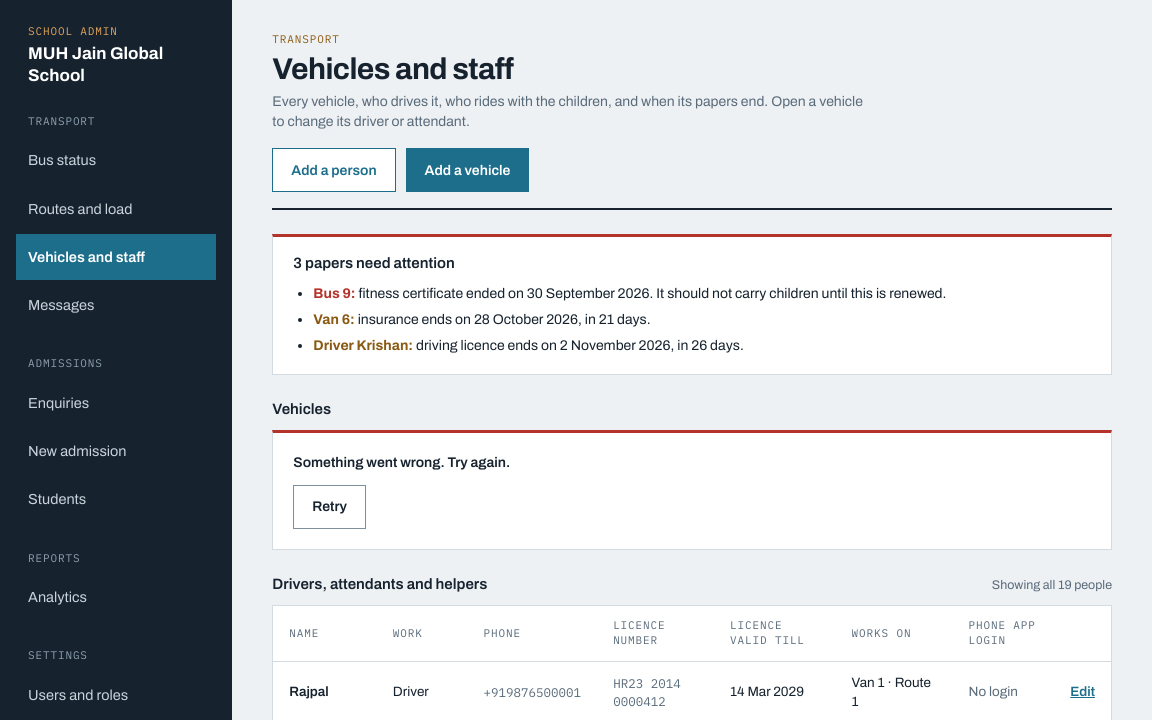
Vehicles and staff page › shows an error with Retry, then the data
Click the button "Retry": [330, 507] box left=293, top=485, right=366, bottom=529
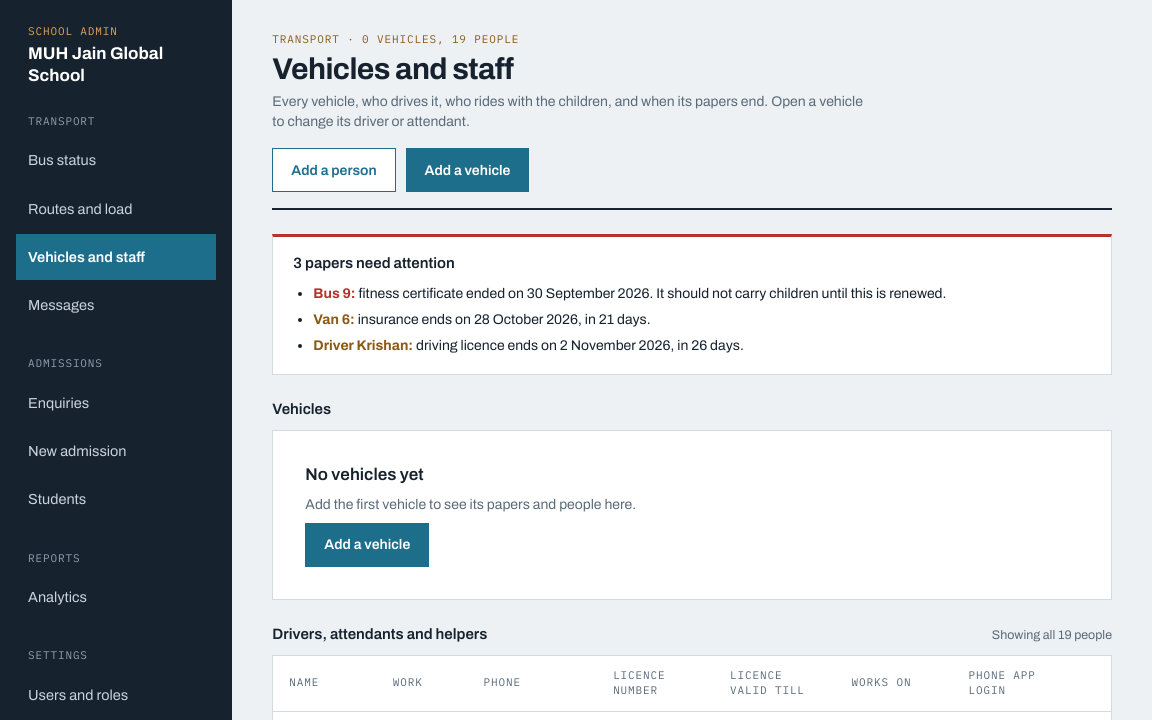
Expected: the text "No vehicles yet" is shown, left=305, top=463, right=424, bottom=487
